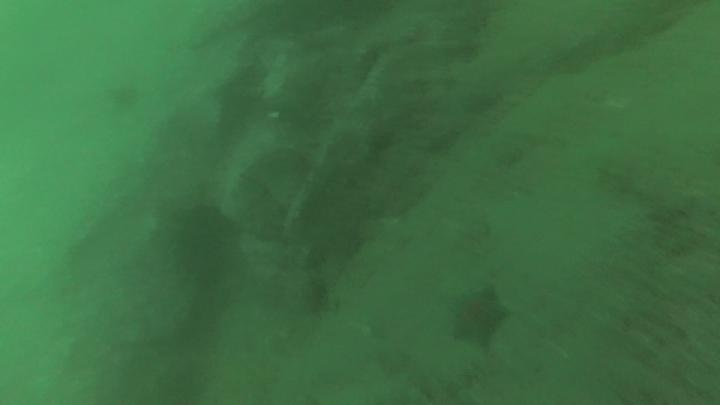starfish: (446, 283, 511, 350)
